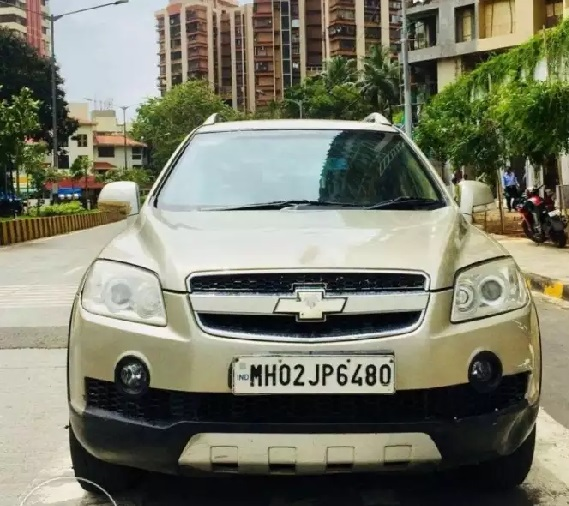licenseplate: (228, 350, 397, 397)
